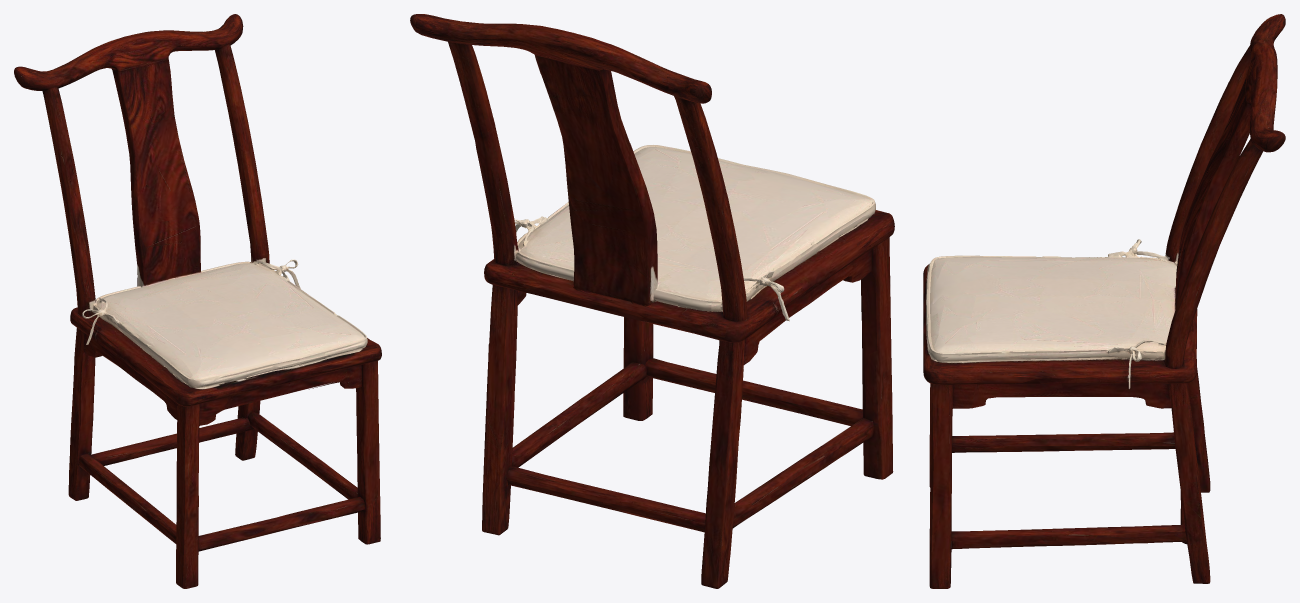
File: w5dinchair.glb
The picture shows the model from 3 angles, left to right: view 1: azimuth 30°, elevation 25°; view 2: azimuth 150°, elevation 25°; view 3: azimuth 270°, elevation 25°; orthographic projection. The views are drawn at different scales.
Visible parts, largest first — view 1: output_unwrapped; view 2: output_unwrapped; view 3: output_unwrapped.
Boxes of the visible parts, bbox=[...] form: output_unwrapped: bbox=[14, 14, 381, 588]; output_unwrapped: bbox=[410, 14, 894, 588]; output_unwrapped: bbox=[923, 14, 1285, 588].
Bounding box in the file's own units: 0.5639 × 1 × 0.697.
Materials: 1 (1 with a texture image).
